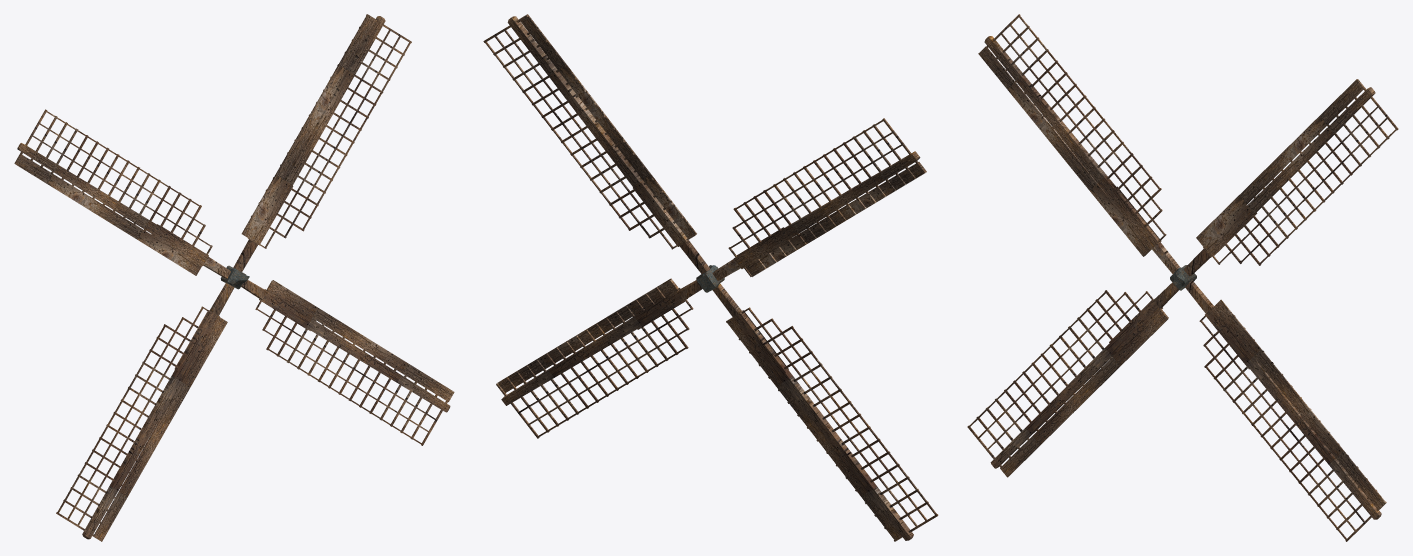
Rendered from blade.obj.
The picture shows the model from 3 angles, left to right: view 1: azimuth 30°, elevation 25°; view 2: azimuth 150°, elevation 25°; view 3: azimuth 330°, elevation 25°; orthographic projection. The views are drawn at different scales.
Visible parts, largest first — view 1: Plane.001_Plane.000; view 2: Plane.001_Plane.000; view 3: Plane.001_Plane.000.
Part boxes in pixels (x1,y1,x2,y2): Plane.001_Plane.000: [14, 14, 454, 541]; Plane.001_Plane.000: [483, 14, 938, 541]; Plane.001_Plane.000: [967, 14, 1398, 541].
Size of the model in its own units: 7.5 by 7.43 by 1.13.
Materials: 2 (2 with a texture image).
